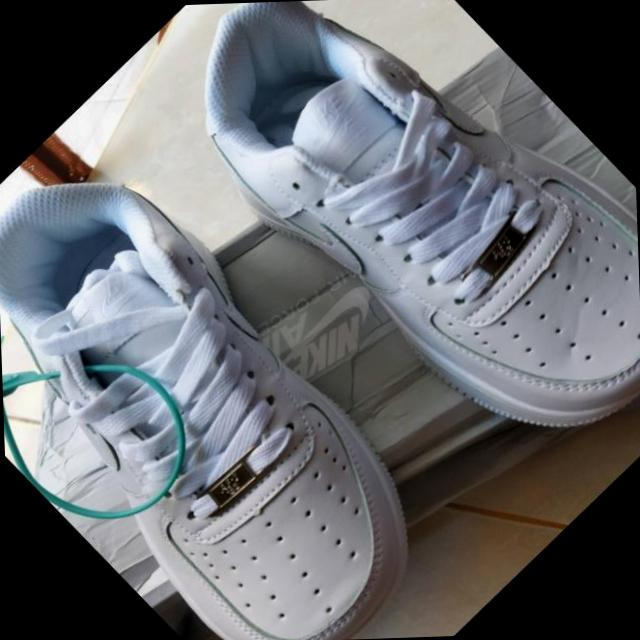nike_fake_airforce: (127, 0, 640, 523), (0, 115, 477, 640)
